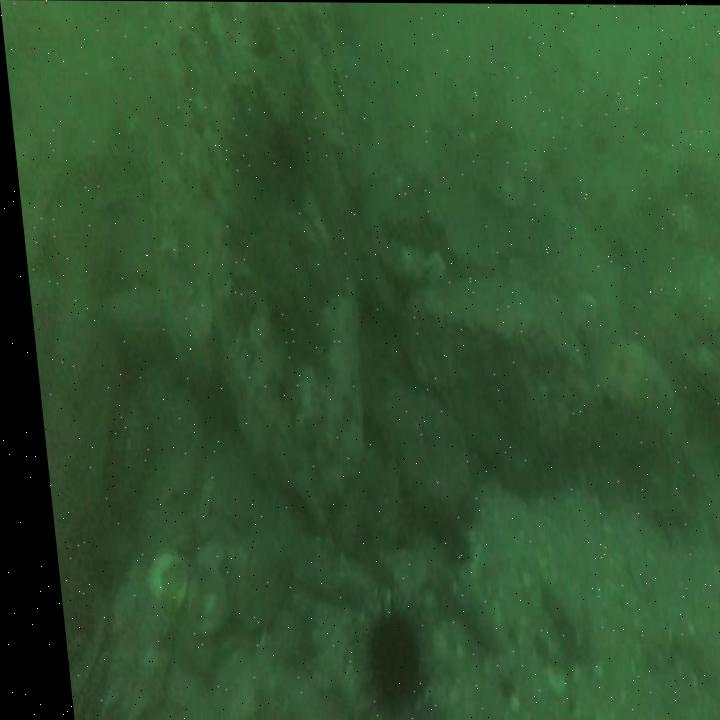echinus: (352, 613, 410, 703)
scallop: (130, 546, 175, 614)
